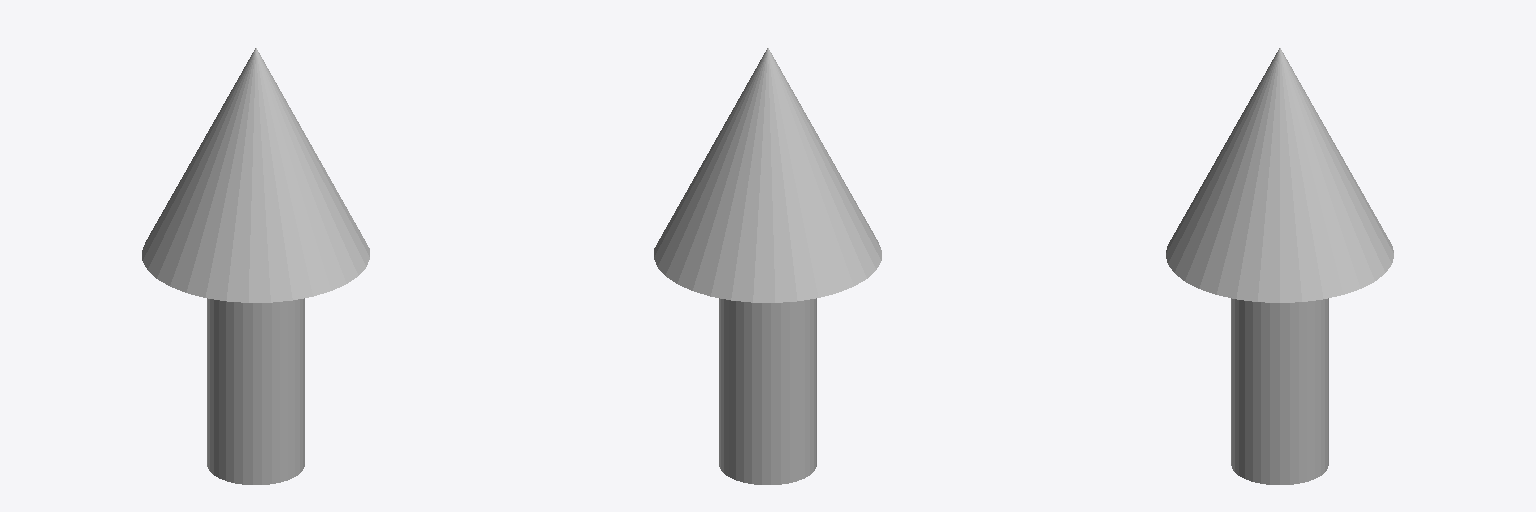
The model's file is arrow.obj.
3 renders of one model, left to right at view 1: azimuth 30°, elevation 25°; view 2: azimuth 150°, elevation 25°; view 3: azimuth 270°, elevation 25°, orthographic.
Visible parts, largest first — view 1: Cone, Cylinder; view 2: Cone, Cylinder; view 3: Cone, Cylinder.
Boxes of the visible parts, x1,y1,x2,y2 form: Cone: [142, 48, 369, 302]; Cylinder: [207, 298, 304, 484]; Cone: [654, 48, 881, 302]; Cylinder: [719, 298, 816, 484]; Cone: [1166, 48, 1393, 302]; Cylinder: [1231, 298, 1328, 484].
Size of the model in its own units: 0.305 by 0.6136 by 0.305.